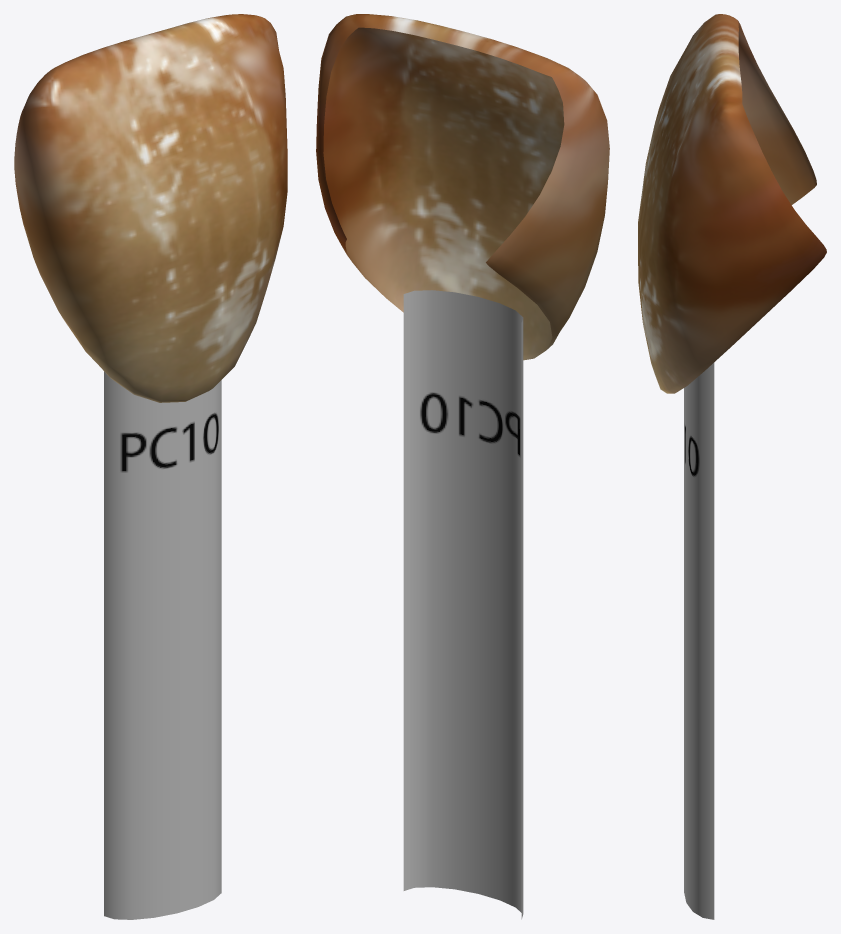
3 renders of one model, left to right at view 1: azimuth 30°, elevation 25°; view 2: azimuth 150°, elevation 25°; view 3: azimuth 270°, elevation 25°, orthographic. The views are drawn at different scales.
Parts seen in each view (by area): view 1: Tab; view 2: Tab; view 3: Tab.
Part boxes in pixels (<box>): Tab: <box>14,14,287,919</box>; Tab: <box>316,14,609,919</box>; Tab: <box>638,14,826,919</box>.
Bounding box in the file's own units: 0.00866 × 0.0274 × 0.00556.
1 material, 1 textured.
